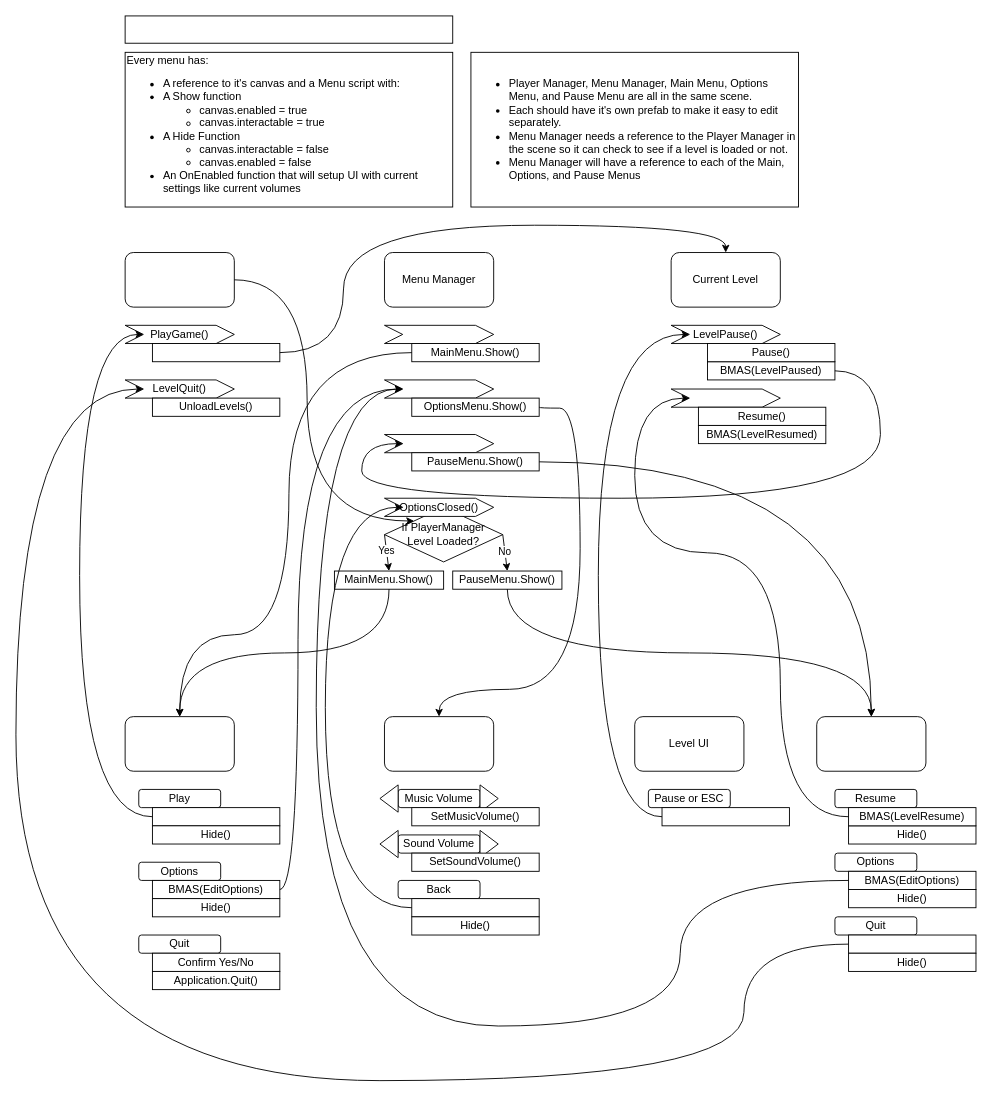
This 992x1097 diagram has some shape labels left out. The box of each missing label's shape, as (x1, y1, x2, y2) in pixels:
BMAS = MessageUtils.BroadcastMessageAcrossScenes: (124, 15, 453, 43)
BMAS(LevelPause): (661, 807, 789, 826)
BMAS(LevelQuit): (848, 934, 976, 953)
BMAS(OptionsClosed): (411, 898, 539, 917)
BMAS(PlayGame): (152, 807, 280, 826)
EditOptions(): (384, 379, 494, 398)
LevelPaused(): (384, 434, 494, 453)
LevelResume(): (670, 388, 780, 407)
LoadNextLevel(): (152, 343, 280, 362)
Main Menu: (124, 716, 234, 771)
Options Menu: (384, 716, 494, 771)
Pause Menu: (816, 716, 926, 771)
Player Manager: (124, 252, 234, 307)
Start(): (384, 324, 494, 344)
